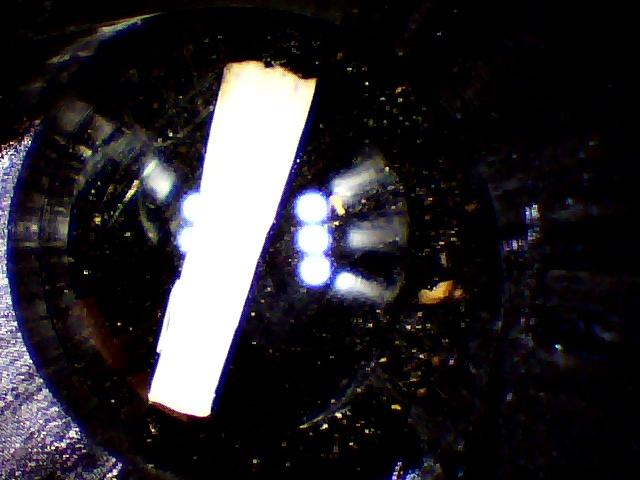megot: (138, 42, 338, 434)
